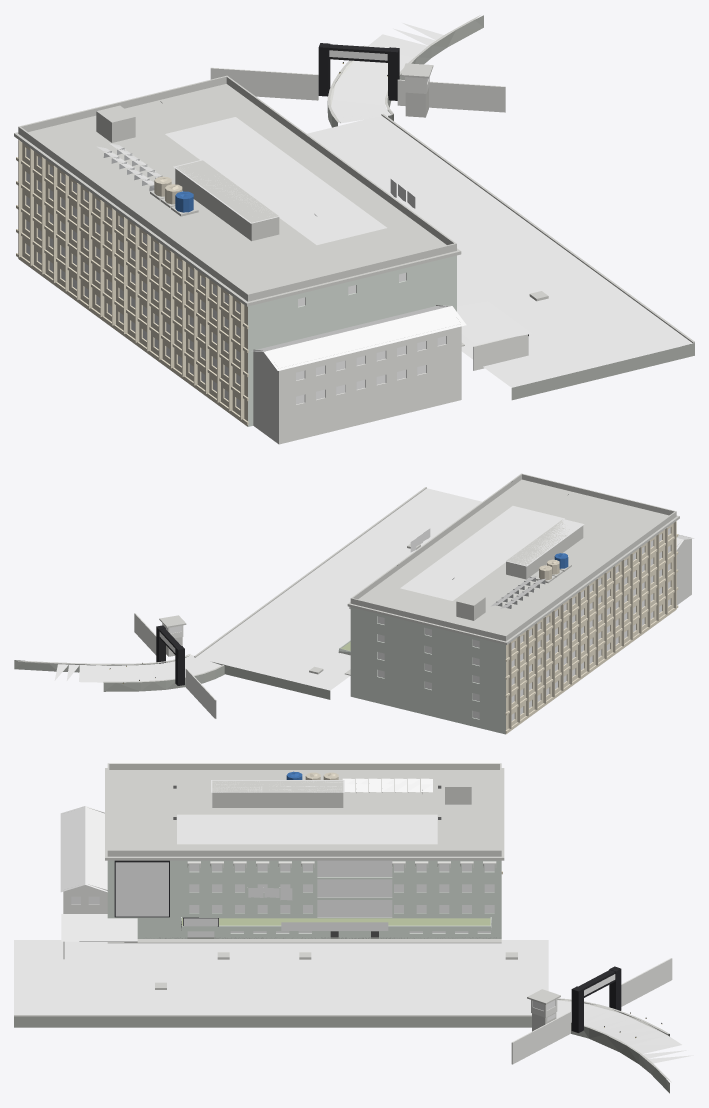
3 renders of one model, top to bottom at view 1: azimuth 30°, elevation 25°; view 2: azimuth 150°, elevation 25°; view 3: azimuth 270°, elevation 25°, orthographic. The views are drawn at different scales.
Parts seen in each view (by area): view 1: BP_29_17; view 2: BP_29_17; view 3: BP_29_17.
Part boxes in pixels (box(x1,y1,x2,y2)): BP_29_17: box(14, 15, 694, 444); BP_29_17: box(14, 473, 694, 734); BP_29_17: box(14, 763, 693, 1093).
Bounding box in the file's own units: 84.09 × 22.39 × 102.
